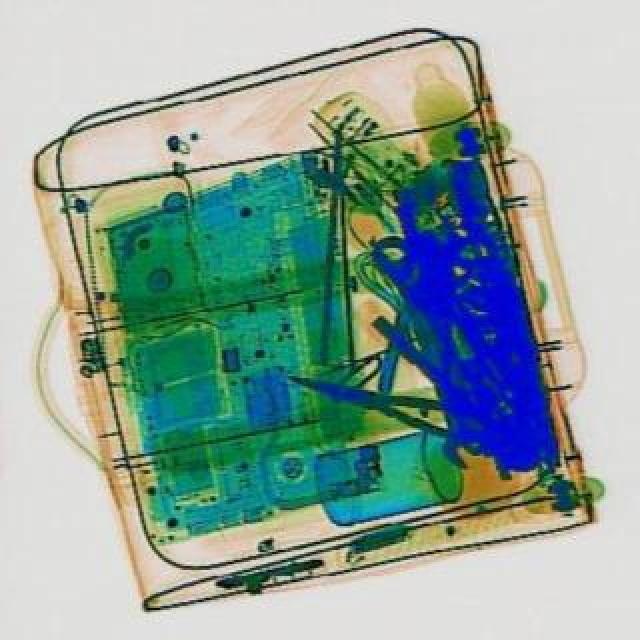wrench: (280, 356, 456, 436)
